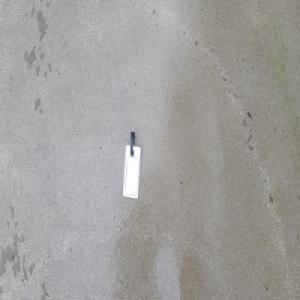LuggageTag: (121, 129, 142, 199)
